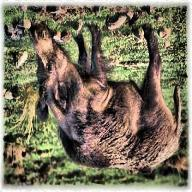boar: (27, 12, 189, 177)
